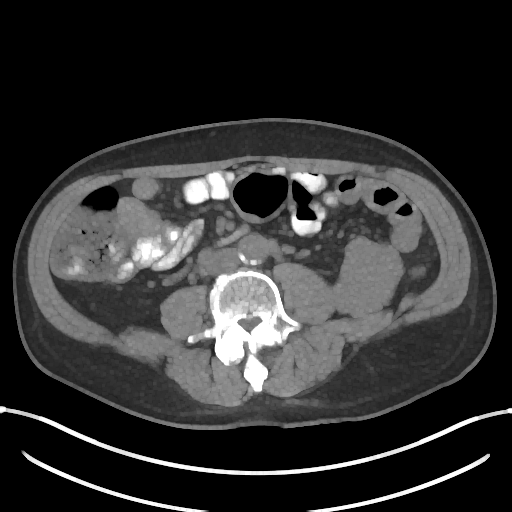Lesion: (336, 233, 403, 310)
